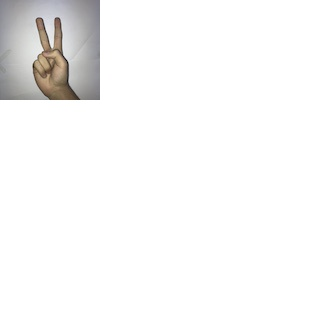scissors: (26, 13, 79, 93)
